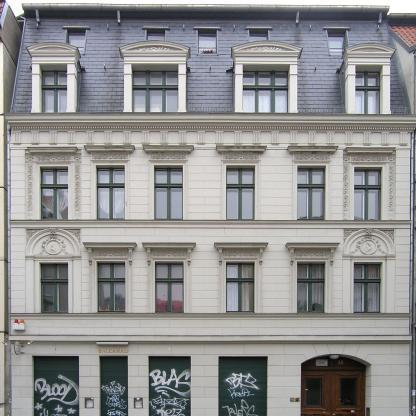Blind: (218, 356, 268, 416), (32, 355, 80, 416), (148, 356, 191, 416), (99, 355, 128, 416)
Building Outline: (2, 3, 416, 415)
Cornice: (25, 226, 81, 255), (342, 227, 396, 255), (233, 41, 303, 57), (119, 41, 190, 56), (26, 43, 77, 57), (346, 43, 396, 57), (141, 242, 195, 248), (214, 242, 268, 248), (26, 146, 77, 152), (83, 145, 134, 151), (143, 145, 194, 151), (216, 145, 267, 151), (288, 145, 339, 151), (286, 242, 341, 247), (82, 242, 136, 247), (346, 147, 396, 152)
Deco: (343, 154, 396, 164), (25, 153, 81, 162), (387, 164, 395, 220), (27, 162, 34, 220), (74, 162, 81, 220), (343, 163, 350, 220), (294, 251, 330, 258), (223, 251, 259, 258), (93, 250, 128, 257), (152, 251, 187, 258), (293, 155, 331, 161), (91, 154, 129, 160), (149, 154, 187, 160), (222, 154, 260, 160), (98, 349, 129, 354)
Door: (300, 354, 371, 416), (99, 355, 128, 416)
Facade: (10, 113, 413, 415)
Floor: (11, 127, 412, 236), (11, 236, 412, 330)
Floor Slab: (11, 323, 412, 330), (11, 229, 412, 236), (11, 120, 412, 127)
Ground Floor: (11, 330, 412, 415)
Molding: (8, 122, 416, 146)
Roof: (13, 17, 409, 114)
Top Floor: (10, 17, 410, 127)
Window: (218, 356, 268, 416), (32, 355, 80, 416), (148, 356, 191, 416), (243, 64, 290, 113), (132, 64, 179, 112), (297, 166, 326, 220), (226, 166, 255, 220), (154, 166, 183, 220), (96, 166, 125, 220), (40, 167, 69, 220), (97, 261, 126, 313), (155, 261, 184, 313), (226, 261, 255, 313), (297, 261, 326, 313), (355, 167, 383, 220), (354, 262, 383, 313), (40, 262, 69, 313), (39, 64, 67, 112), (355, 65, 383, 113), (328, 30, 350, 55), (65, 29, 86, 53), (305, 378, 322, 406), (146, 30, 165, 54), (198, 30, 217, 54), (340, 378, 356, 406), (250, 30, 270, 51)
